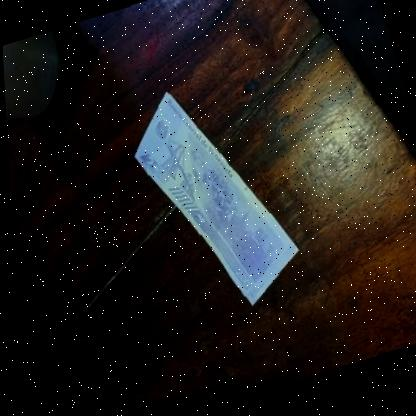two_hundred-back-vef: (115, 65, 308, 334)
